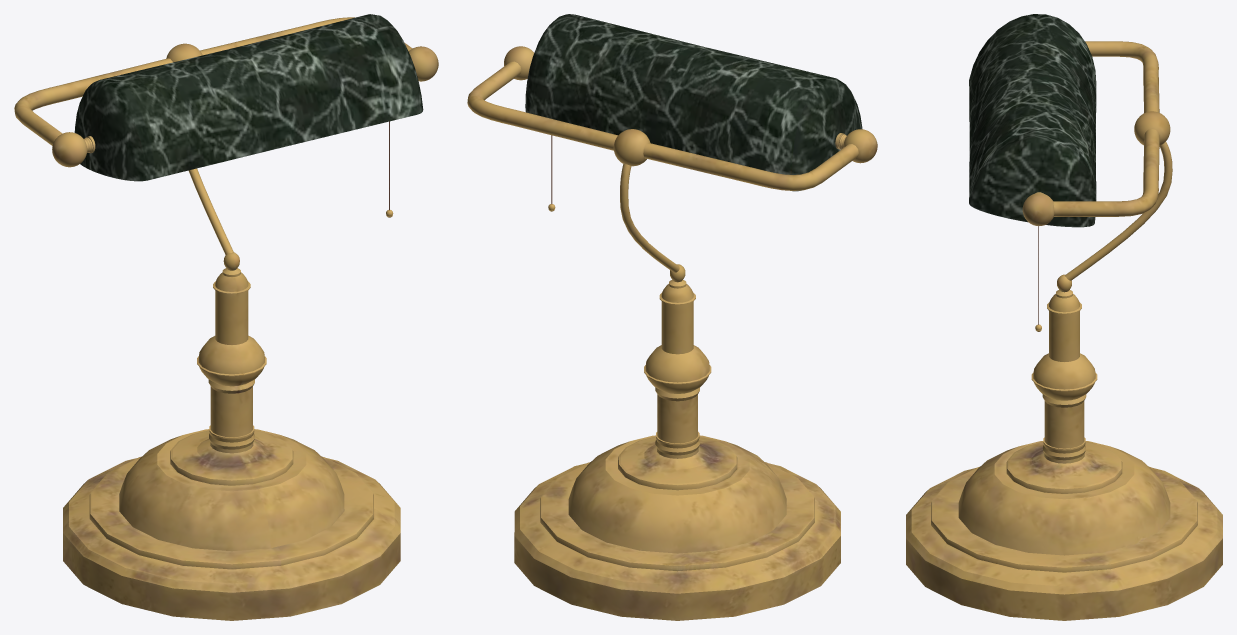
File: old_desk_lamp.glb
3 renders of one model, left to right at view 1: azimuth 30°, elevation 25°; view 2: azimuth 150°, elevation 25°; view 3: azimuth 270°, elevation 25°, orthographic. The views are drawn at different scales.
Visible parts, largest first — view 1: Sphere004; view 2: Sphere004; view 3: Sphere004.
Part boxes in pixels (box(x1,y1,x2,y2)): Sphere004: box(14, 14, 438, 620); Sphere004: box(467, 14, 877, 620); Sphere004: box(906, 14, 1222, 620).
Bounding box in the file's own units: 1.57 × 2 × 1.2.
1 material, 1 textured.
